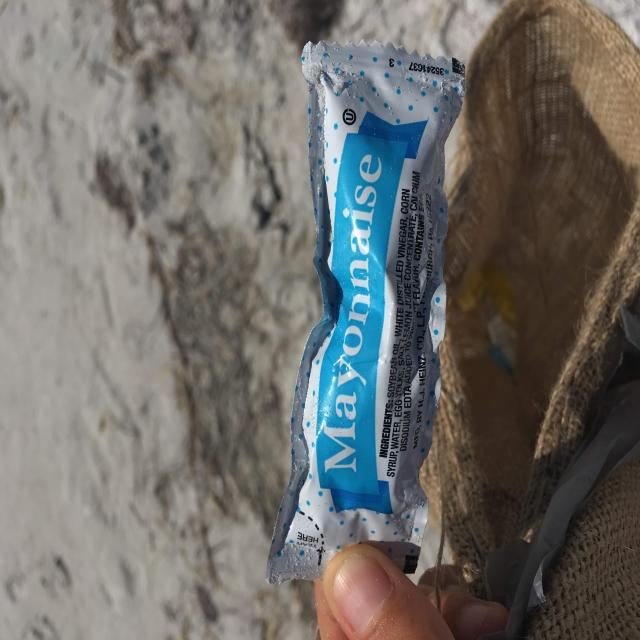litter: (263, 47, 465, 585)
